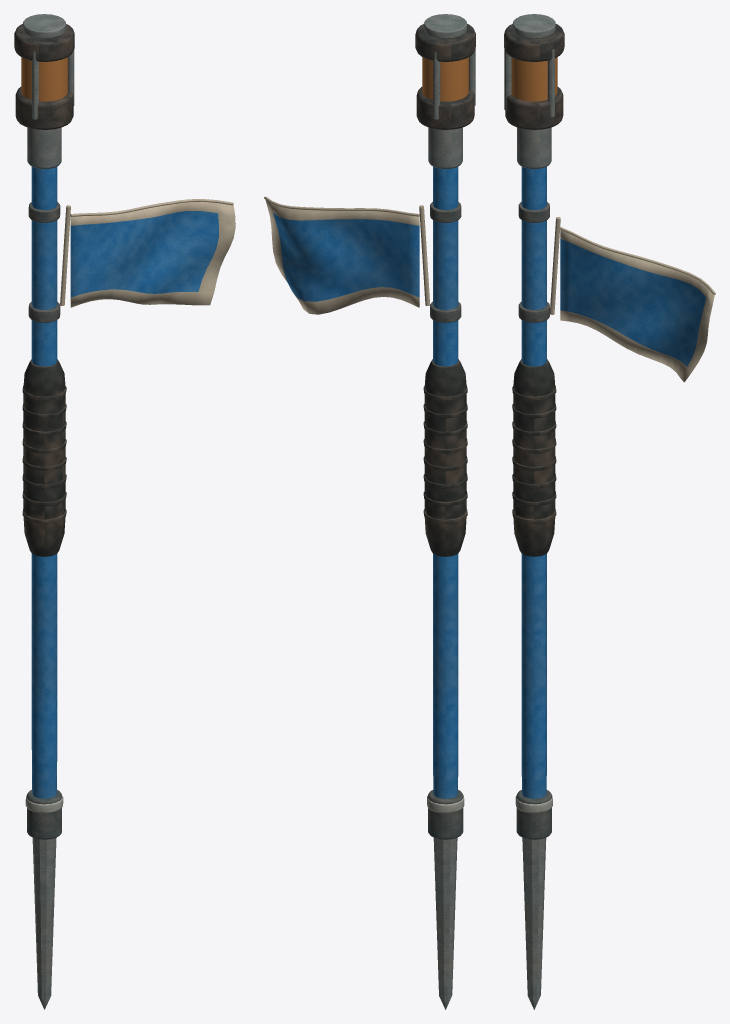
The model's file is survey_stake.glb.
3 views of the same model, side by side, from view 1: azimuth 30°, elevation 25°; view 2: azimuth 150°, elevation 25°; view 3: azimuth 330°, elevation 25° (orthographic).
Parts seen in each view (by area): view 1: Flag, Reinforced_shaft_slate_panel, Stake_hardware_black_rubber, Stake_hardware_alloy, Stake_hardware_dark_alloy, Reflector_base_graphite, Head, Reflector_bumper_graphite, Flag_stitched_hem_warm_shell, Flag_halyard_warm_shell; view 2: Flag, Reinforced_shaft_slate_panel, Stake_hardware_black_rubber, Stake_hardware_alloy, Stake_hardware_dark_alloy, Reflector_base_graphite, Head, Reflector_bumper_graphite, Flag_halyard_warm_shell, Flag_stitched_hem_warm_shell; view 3: Flag, Reinforced_shaft_slate_panel, Stake_hardware_black_rubber, Stake_hardware_alloy, Stake_hardware_dark_alloy, Reflector_base_graphite, Head, Reflector_bumper_graphite, Flag_stitched_hem_warm_shell, Flag_halyard_warm_shell.
Boxes of the visible parts, bbox=[...] form: Flag: bbox=[70, 201, 235, 307]; Reinforced_shaft_slate_panel: bbox=[31, 166, 57, 798]; Stake_hardware_black_rubber: bbox=[22, 359, 66, 556]; Stake_hardware_alloy: bbox=[23, 14, 74, 1009]; Stake_hardware_dark_alloy: bbox=[27, 202, 61, 839]; Reflector_base_graphite: bbox=[15, 87, 73, 129]; Head: bbox=[21, 57, 67, 101]; Reflector_bumper_graphite: bbox=[14, 24, 74, 61]; Flag_stitched_hem_warm_shell: bbox=[70, 199, 233, 216]; Flag_halyard_warm_shell: bbox=[60, 205, 70, 305]; Flag: bbox=[265, 200, 419, 314]; Reinforced_shaft_slate_panel: bbox=[433, 166, 458, 798]; Stake_hardware_black_rubber: bbox=[423, 359, 467, 556]; Stake_hardware_alloy: bbox=[424, 14, 475, 1009]; Stake_hardware_dark_alloy: bbox=[428, 202, 463, 839]; Reflector_base_graphite: bbox=[416, 87, 474, 129]; Head: bbox=[422, 57, 468, 101]; Reflector_bumper_graphite: bbox=[415, 23, 475, 61]; Flag_halyard_warm_shell: bbox=[419, 205, 430, 305]; Flag_stitched_hem_warm_shell: bbox=[264, 196, 419, 216]; Flag: bbox=[560, 230, 714, 382]; Reinforced_shaft_slate_panel: bbox=[521, 166, 546, 798]; Stake_hardware_black_rubber: bbox=[512, 359, 556, 556]; Stake_hardware_alloy: bbox=[504, 14, 555, 1009]; Stake_hardware_dark_alloy: bbox=[516, 202, 551, 839]; Reflector_base_graphite: bbox=[505, 87, 563, 129]; Head: bbox=[511, 57, 557, 101]; Reflector_bumper_graphite: bbox=[504, 23, 564, 61]; Flag_stitched_hem_warm_shell: bbox=[560, 227, 715, 294]; Flag_halyard_warm_shell: bbox=[549, 217, 560, 314].
Size of the model in its own units: 0.2017 by 0.8995 by 0.0495.
8 materials, 7 textured.
